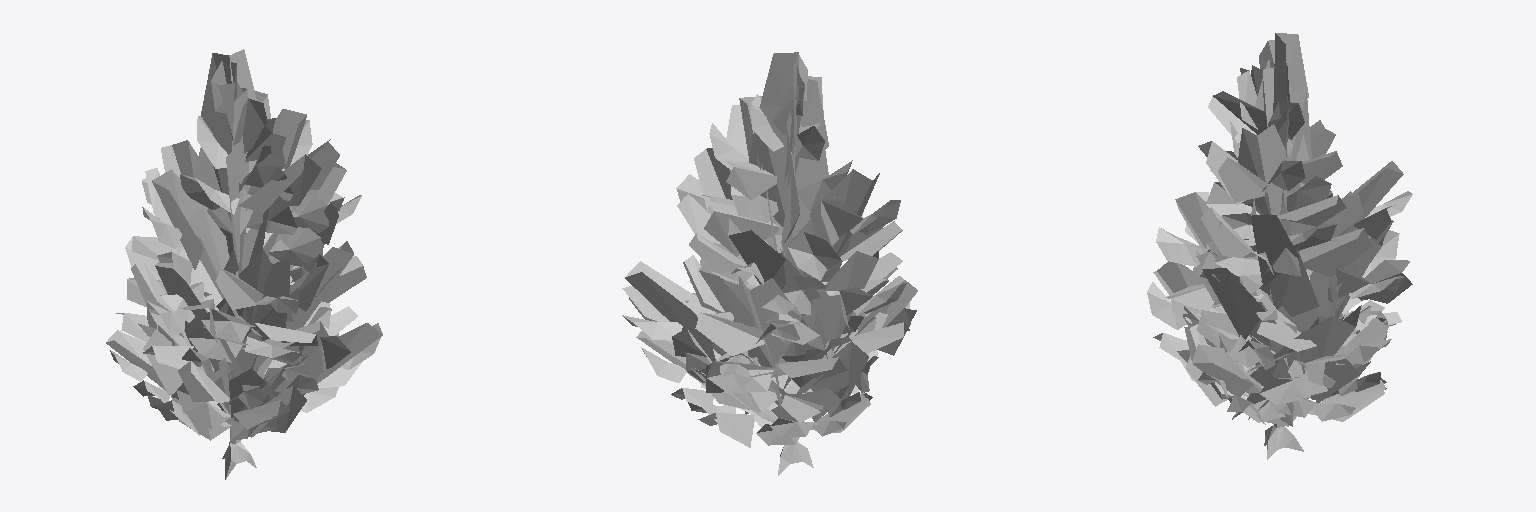
The model's file is SM_PineSmall01_lod1.obj.
3 renders of one model, left to right at view 1: azimuth 30°, elevation 25°; view 2: azimuth 150°, elevation 25°; view 3: azimuth 270°, elevation 25°, orthographic.
Parts seen in each view (by area): view 1: SM_PineSmall01_lod1; view 2: SM_PineSmall01_lod1; view 3: SM_PineSmall01_lod1.
Part boxes in pixels (left/top/right/bottom): SM_PineSmall01_lod1: left=106, top=49, right=382, bottom=479; SM_PineSmall01_lod1: left=622, top=52, right=917, bottom=475; SM_PineSmall01_lod1: left=1147, top=33, right=1412, bottom=459.
Bounding box in the file's own units: 73.4 × 117 × 67.61.